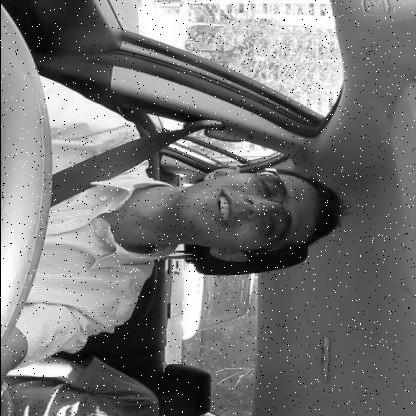seatbelt: (24, 120, 355, 301)
